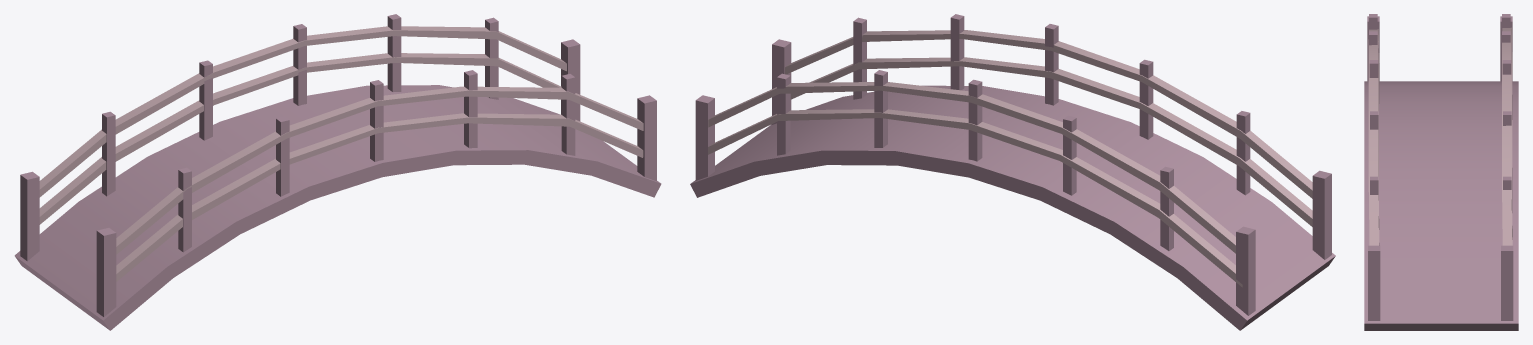
Rendered from SM_Bridge_001.fbx.
The picture shows the model from 3 angles, left to right: view 1: azimuth 30°, elevation 25°; view 2: azimuth 150°, elevation 25°; view 3: azimuth 270°, elevation 25°; orthographic projection. The views are drawn at different scales.
Parts seen in each view (by area): view 1: SM_Bridge; view 2: SM_Bridge; view 3: SM_Bridge.
Part boxes in pixels (x1,y1,x2,y2): SM_Bridge: (14,14,661,330); SM_Bridge: (690,14,1335,330); SM_Bridge: (1364,14,1518,330).
Size of the model in its own units: 1314 by 400 by 362.
